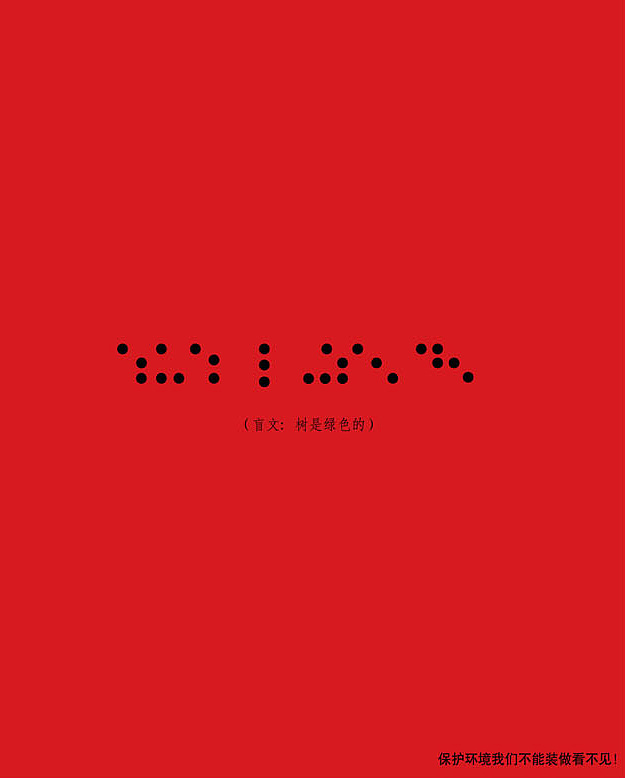Braille: (258, 343, 291, 389), (115, 342, 149, 386), (189, 342, 221, 385), (301, 343, 333, 385), (414, 343, 444, 387), (156, 343, 186, 386), (335, 343, 365, 386), (369, 344, 399, 387), (447, 343, 475, 388)
